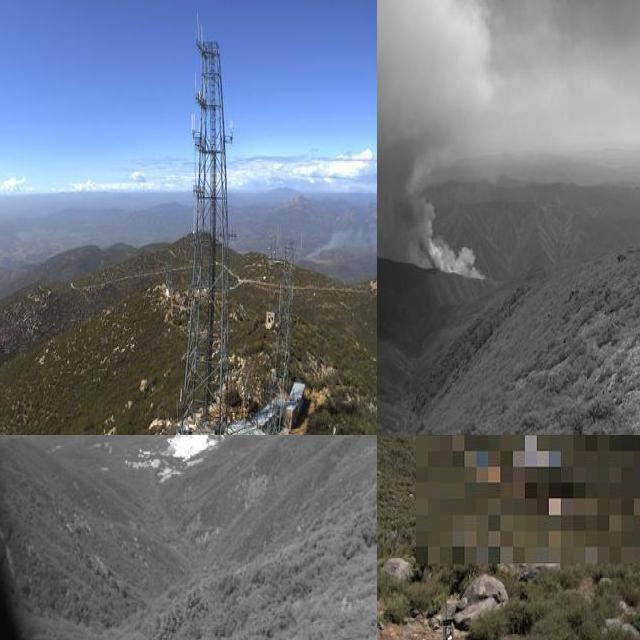smoke: (377, 0, 485, 288), (301, 215, 377, 259)
